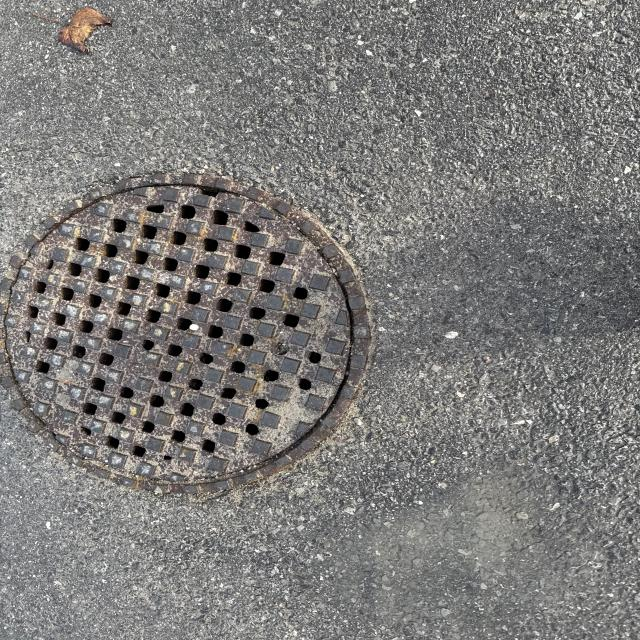Manhole: (4, 166, 376, 498)
